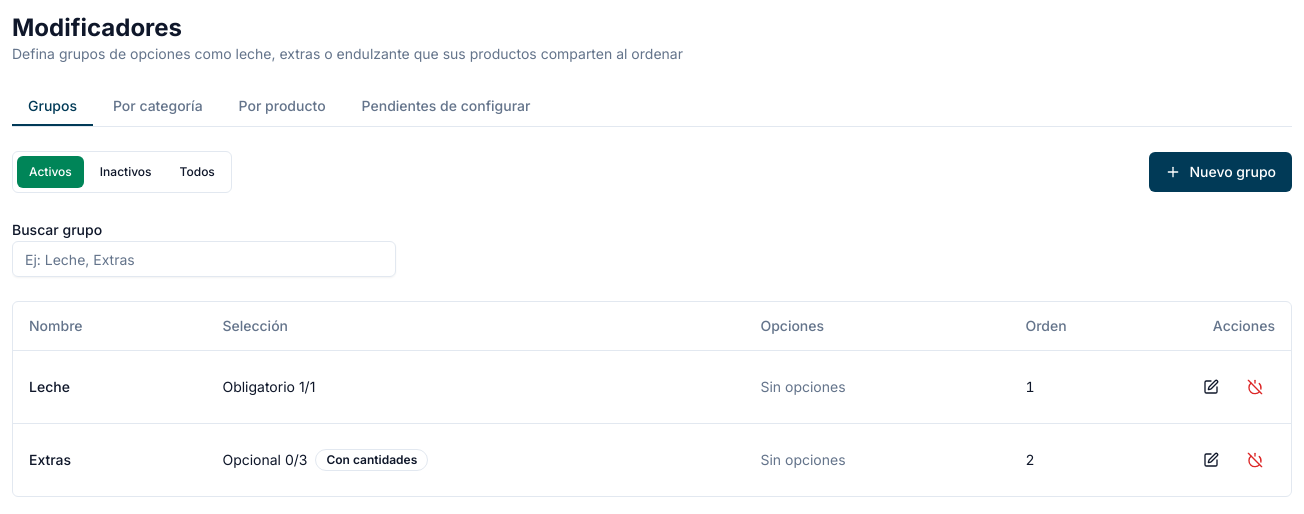
Scenario: ModifiersPage tabs › Por producto › filters the visible product rows by search text
Click the tab "Por producto": click(282, 107) top-left (223, 88), bottom-right (342, 126)
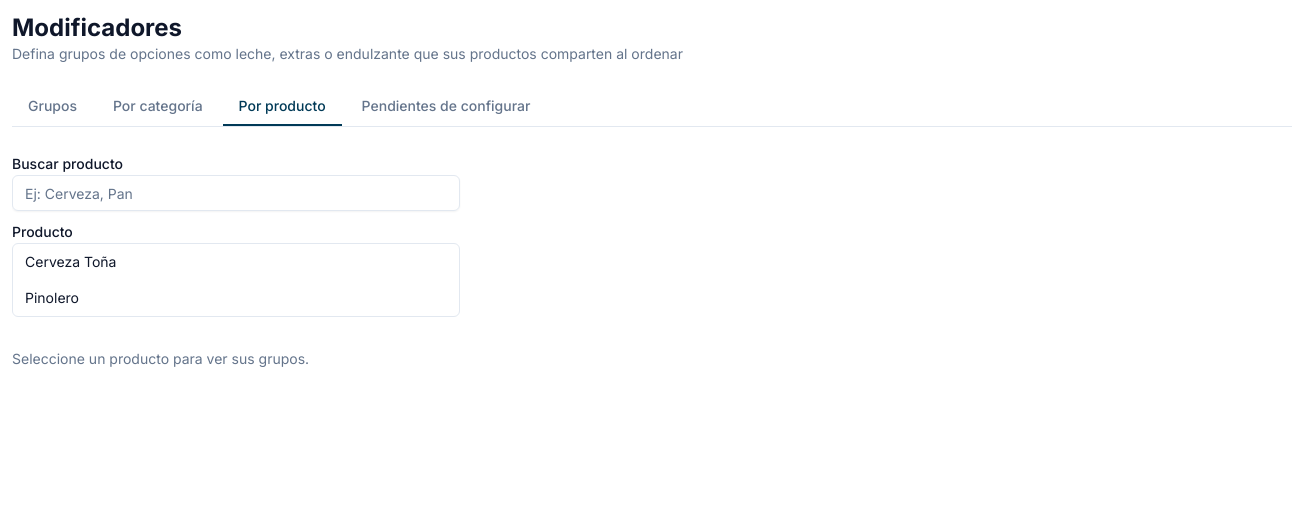
In the field labelled "Buscar producto": (236, 193) top-left (12, 175), bottom-right (460, 211), type "Cerve"
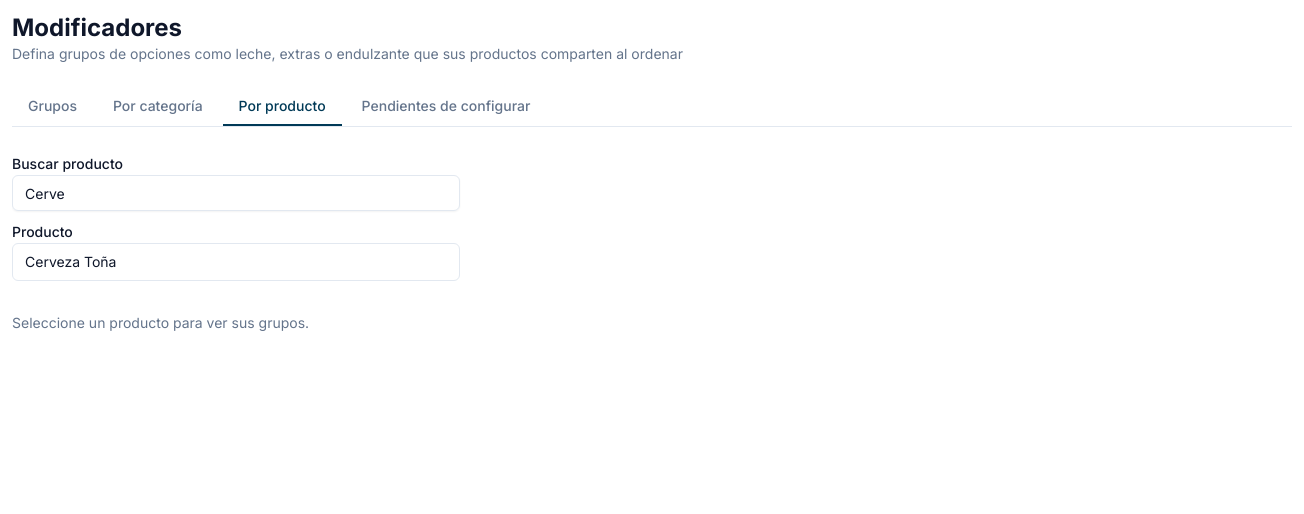
Expected: the option "Cerveza Toña" is shown, top-left (13, 244), bottom-right (459, 280)
Expected: the option "Pinolero" is gone
